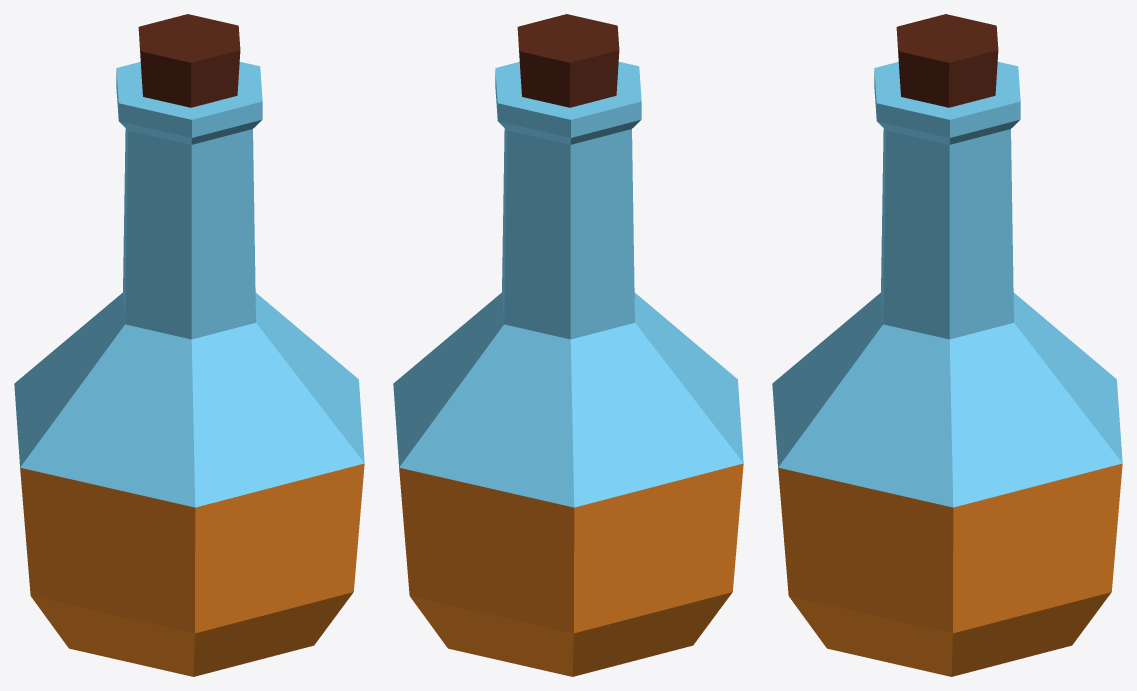
The model's file is m_OrangePotion.FBX.
3 views of the same model, side by side, from view 1: azimuth 30°, elevation 25°; view 2: azimuth 150°, elevation 25°; view 3: azimuth 270°, elevation 25° (orthographic).
Parts seen in each view (by area): view 1: Circle.001; view 2: Circle.001; view 3: Circle.001.
Boxes of the visible parts, bbox=[...] form: Circle.001: bbox=[14, 14, 364, 676]; Circle.001: bbox=[393, 14, 743, 676]; Circle.001: bbox=[772, 14, 1122, 676].
Bounding box in the file's own units: 45.15 × 72.46 × 39.76.
Materials: 1 (1 with a texture image).
